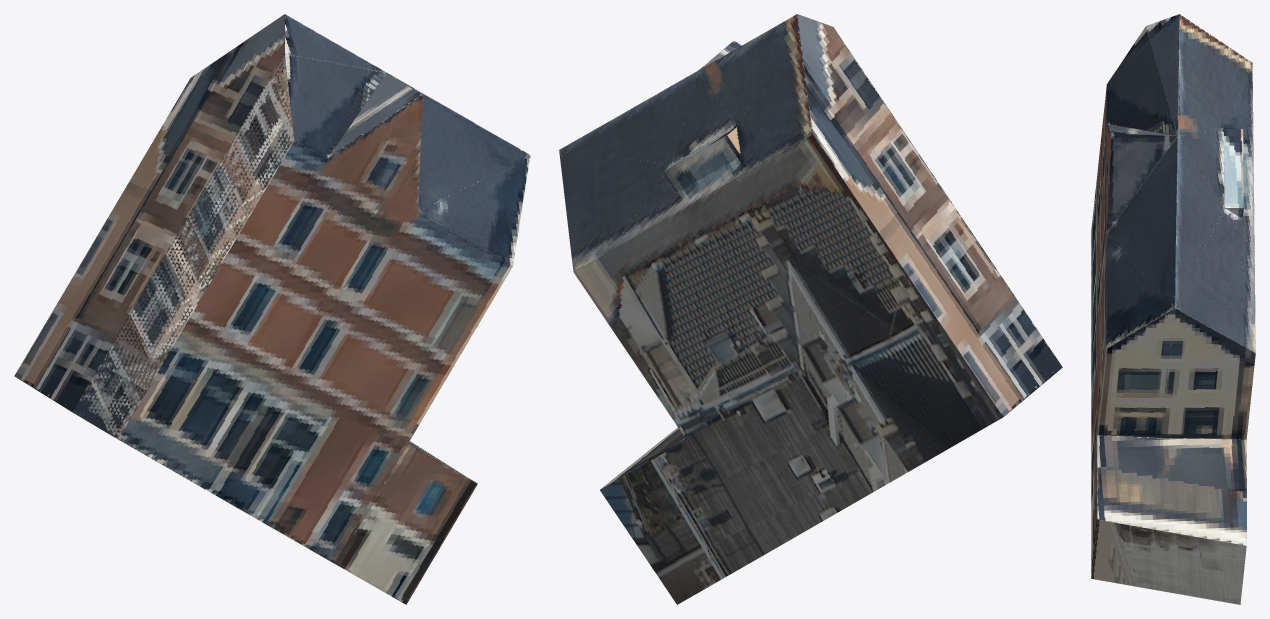
The picture shows the model from 3 angles, left to right: view 1: azimuth 30°, elevation 25°; view 2: azimuth 150°, elevation 25°; view 3: azimuth 270°, elevation 25°; orthographic projection. The views are drawn at different scales.
Visible parts, largest first — view 1: BAG_0599100000671589 (×5); view 2: BAG_0599100000671589 (×6); view 3: BAG_0599100000671589 (×6).
Boxes of the visible parts, x1,y1,x2,y2 form: BAG_0599100000671589 (×5): [14, 14, 530, 604]; BAG_0599100000671589 (×6): [559, 14, 1062, 604]; BAG_0599100000671589 (×6): [1091, 14, 1255, 604].
Size of the model in its own units: 21.39 by 25.15 by 6.81.
2 materials, 1 textured.
